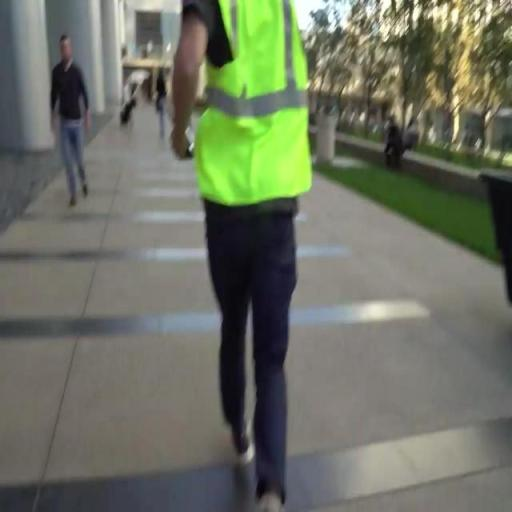vest: (181, 2, 320, 223)
